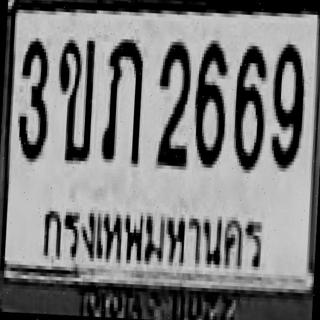A02: (53, 34, 96, 160)
A32: (98, 33, 145, 162)
N02: (154, 36, 191, 164)
N03: (14, 34, 51, 159)
N06: (190, 36, 227, 165), (230, 42, 268, 167)
N09: (267, 40, 304, 165)
P04: (34, 196, 274, 295)
